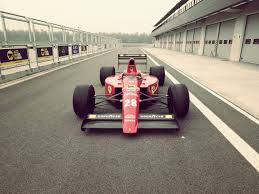FormulaOneCar: (70, 50, 195, 136)
